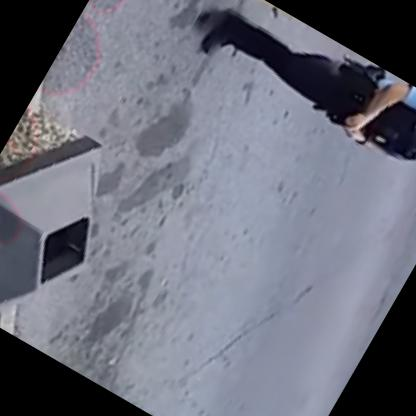Human Body: (189, 0, 415, 199)
